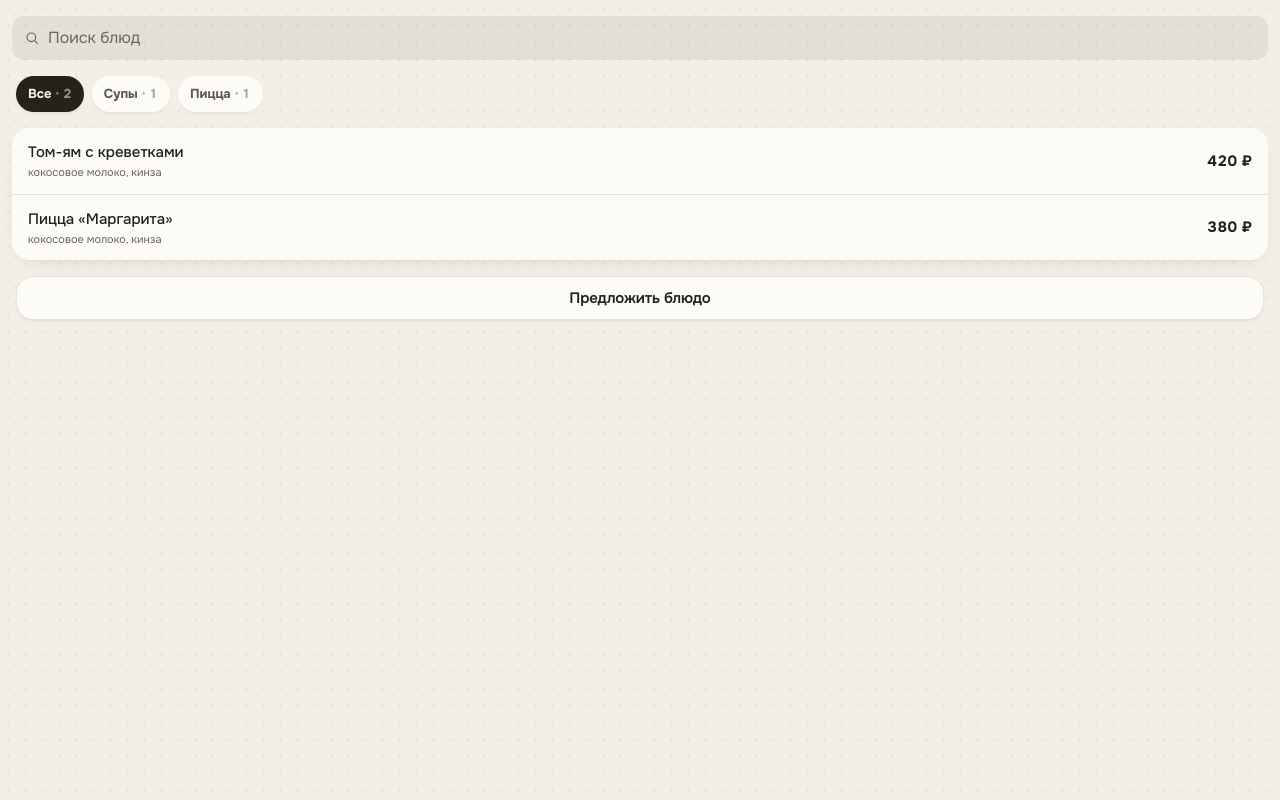
Test: MenuPage — участник › чипы категорий со счётчиками фильтруют
Expected: the button "Все · 2" is shown, [16,76,84,112]
Click the button "Супы · 1" at (131, 94), box [92,76,170,112]
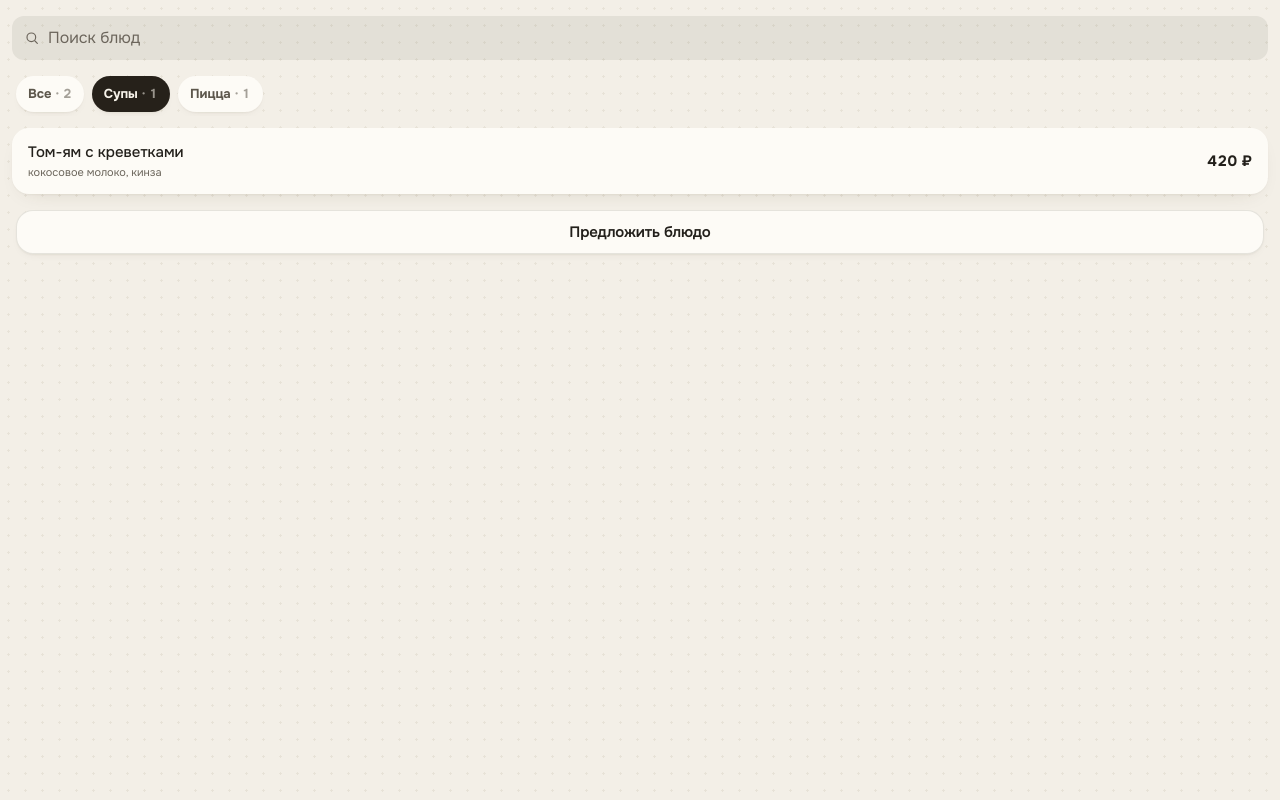
Expected: the text "Том-ям с креветками" is shown, [28,140,184,164]
Expected: the text "Пицца «Маргарита»" is gone
